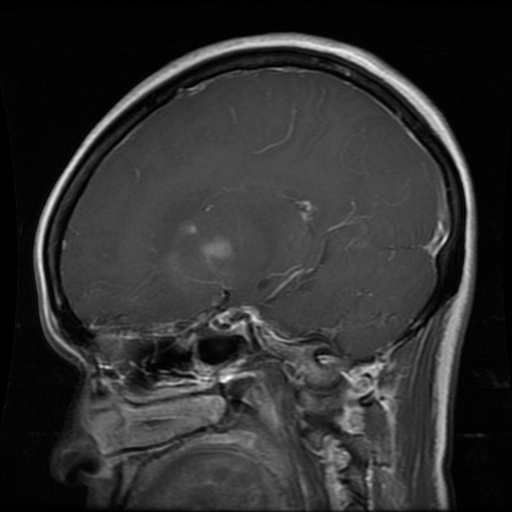glioma: (202, 237, 238, 267)
